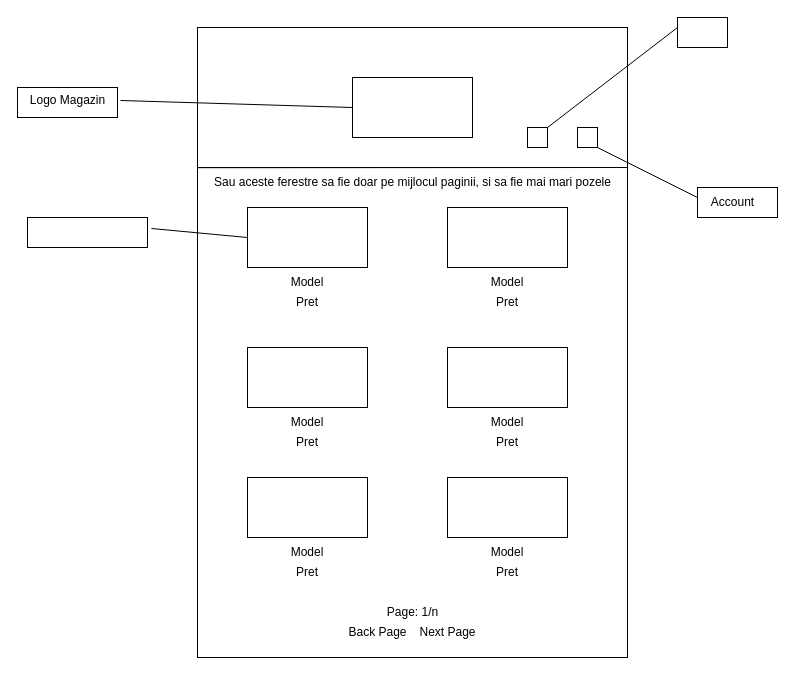
Some shapes in this 795 by 675 pixel diagram are drawn without their labels. Each missing label, with the centre of its shape:
"Cart" belongs at point (702, 32).
"Poza cu produsul" belongs at point (87, 232).
